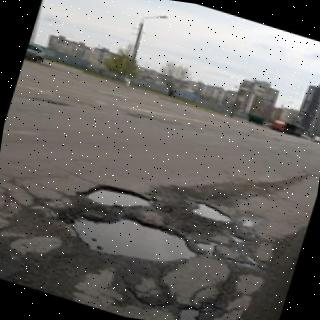pothole: (76, 219, 196, 262), (86, 189, 149, 205), (193, 204, 229, 221)
